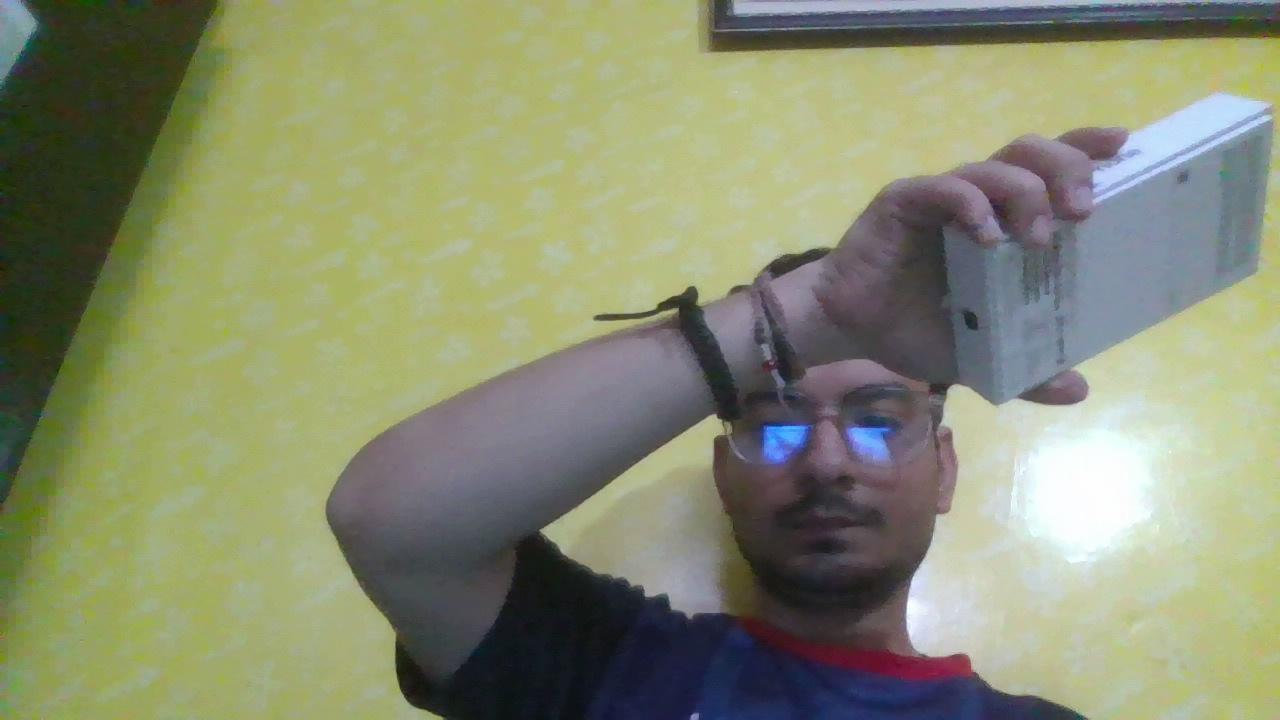Phone: (874, 110, 1280, 432)
